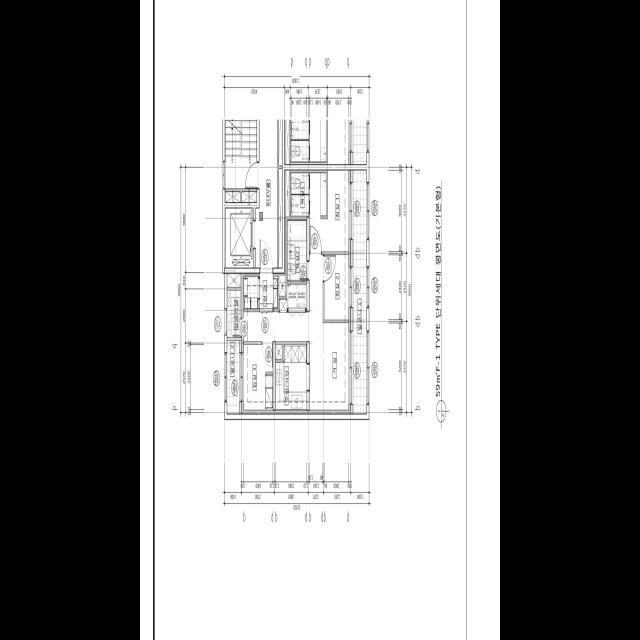background: (140, 0, 500, 640)
space_balconi: (353, 170, 367, 413), (227, 340, 239, 413)
space_bedroom: (310, 170, 351, 251), (242, 344, 273, 413), (324, 254, 351, 319)
space_elevator: (225, 208, 253, 267)
space_elevator_hall: (256, 119, 277, 267)
space_front: (259, 273, 278, 312)
space_kitchen: (276, 344, 307, 413)
space_living_room: (242, 254, 351, 413)
space_other: (242, 273, 258, 308), (287, 283, 307, 308), (279, 168, 282, 267), (227, 273, 241, 287), (285, 170, 289, 216), (242, 191, 257, 202), (225, 191, 240, 202), (279, 273, 286, 296), (279, 119, 282, 165), (276, 344, 282, 359)
space_outdoor_room: (227, 290, 241, 337)
space_staircase: (225, 119, 257, 188)
space_toilet: (291, 172, 327, 215), (287, 220, 307, 280)
